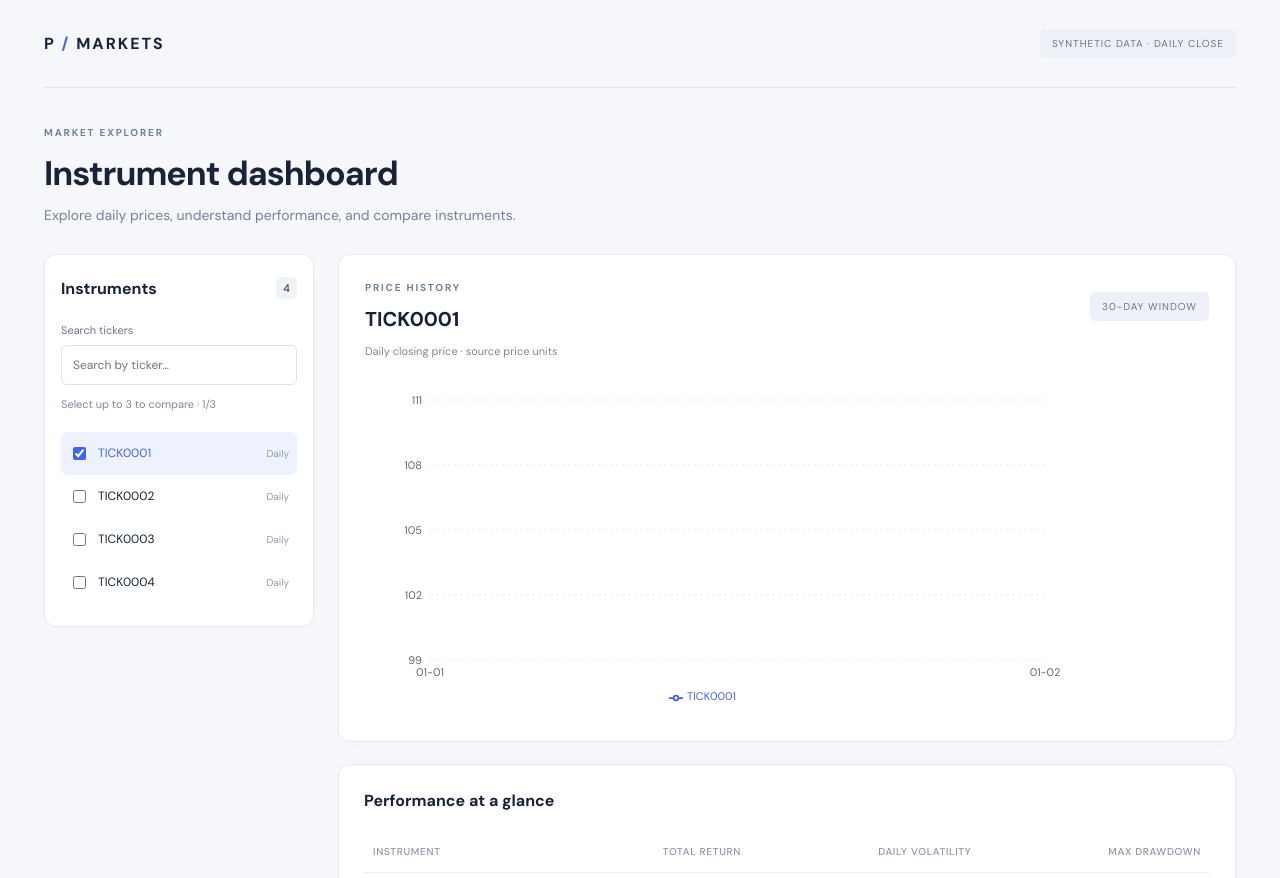
Test: Dashboard interactions › compares up to three, toggles normalization, and supports deselection
Click the checkbox labelled "TICK0002 Daily": coordinates (80, 496) [73, 490, 86, 503]
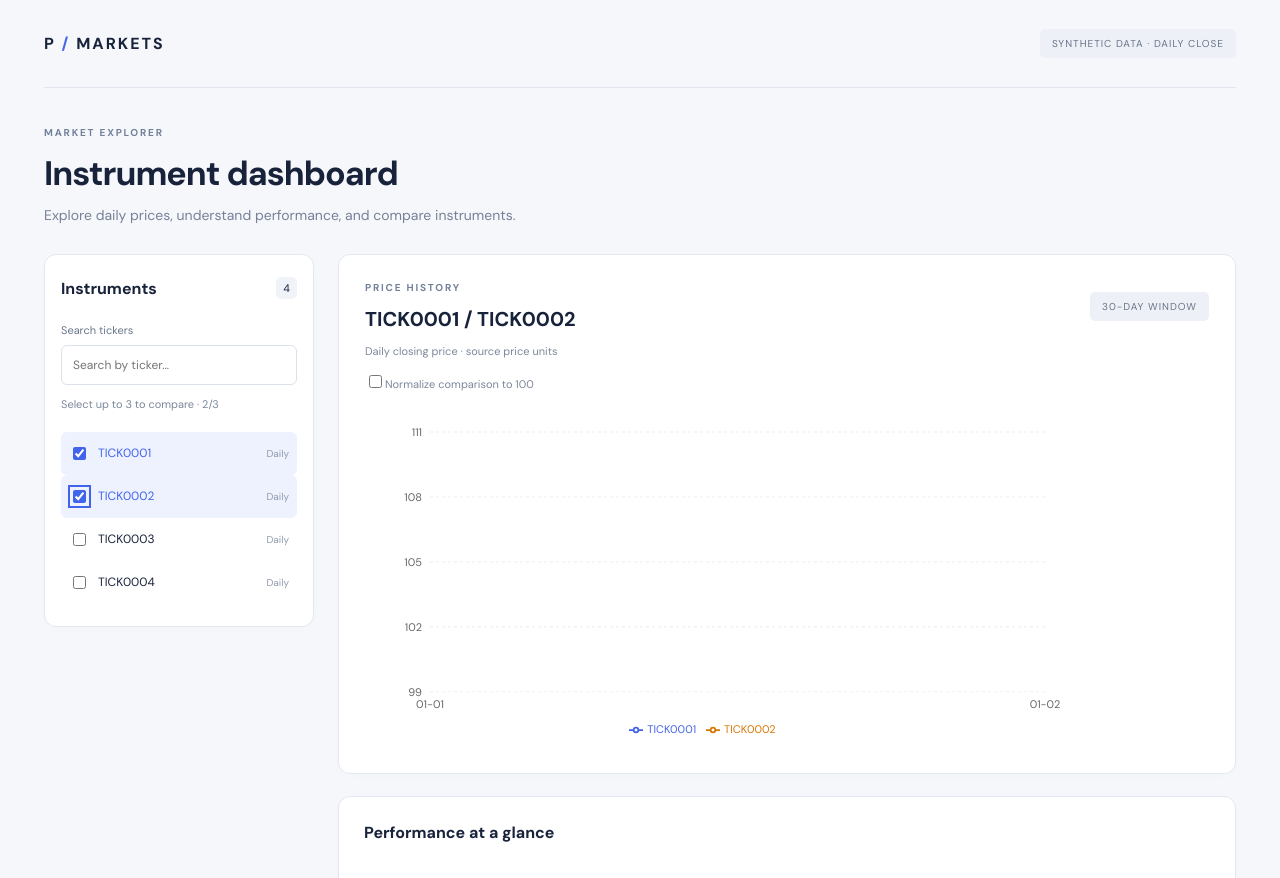
Expected: the checkbox labelled "Normalize comparison to 100" is shown, [369, 375, 382, 388]
Click the checkbox labelled "TICK0003 Daily": coordinates (80, 539) [73, 533, 86, 546]
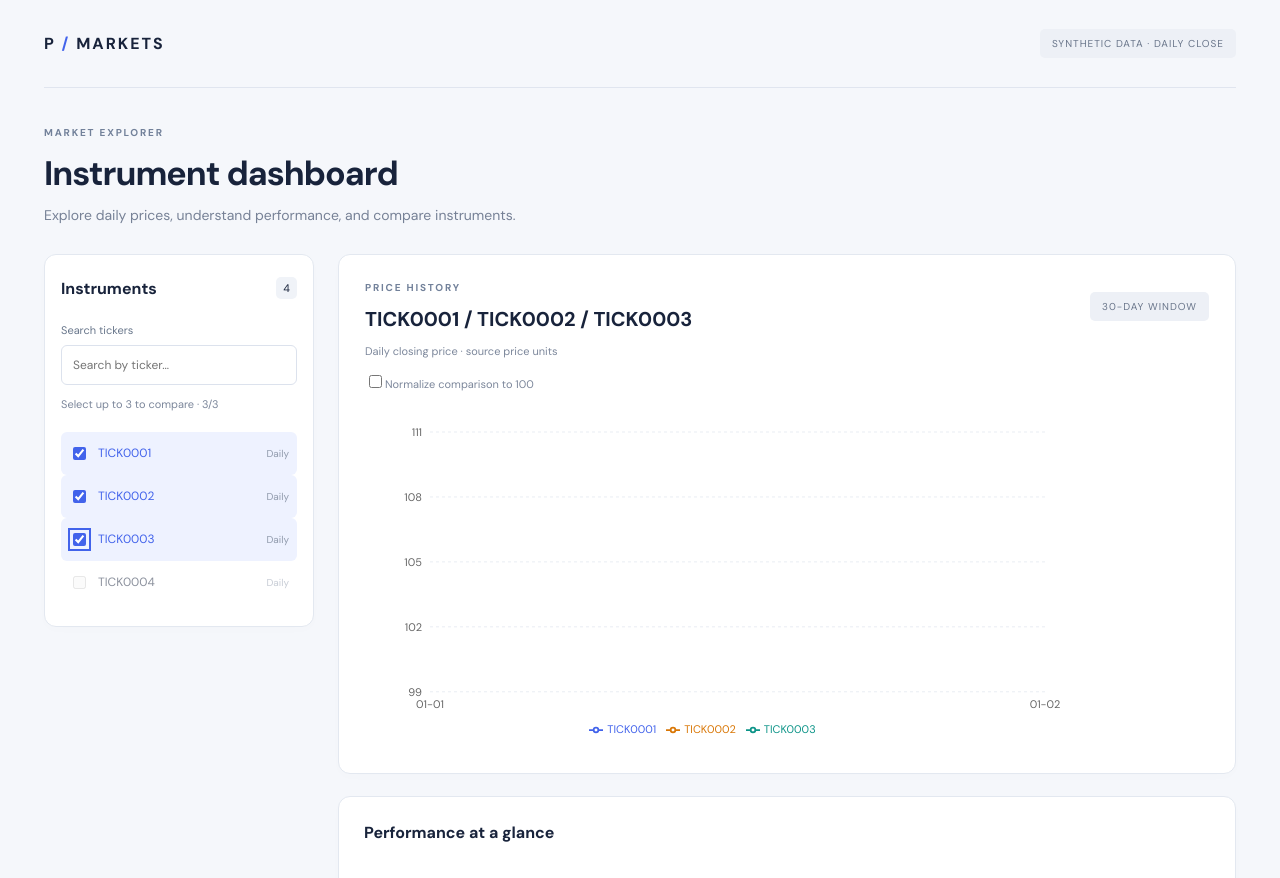
Click the checkbox labelled "Normalize comparison to 100": coordinates (376, 381) [369, 375, 382, 388]
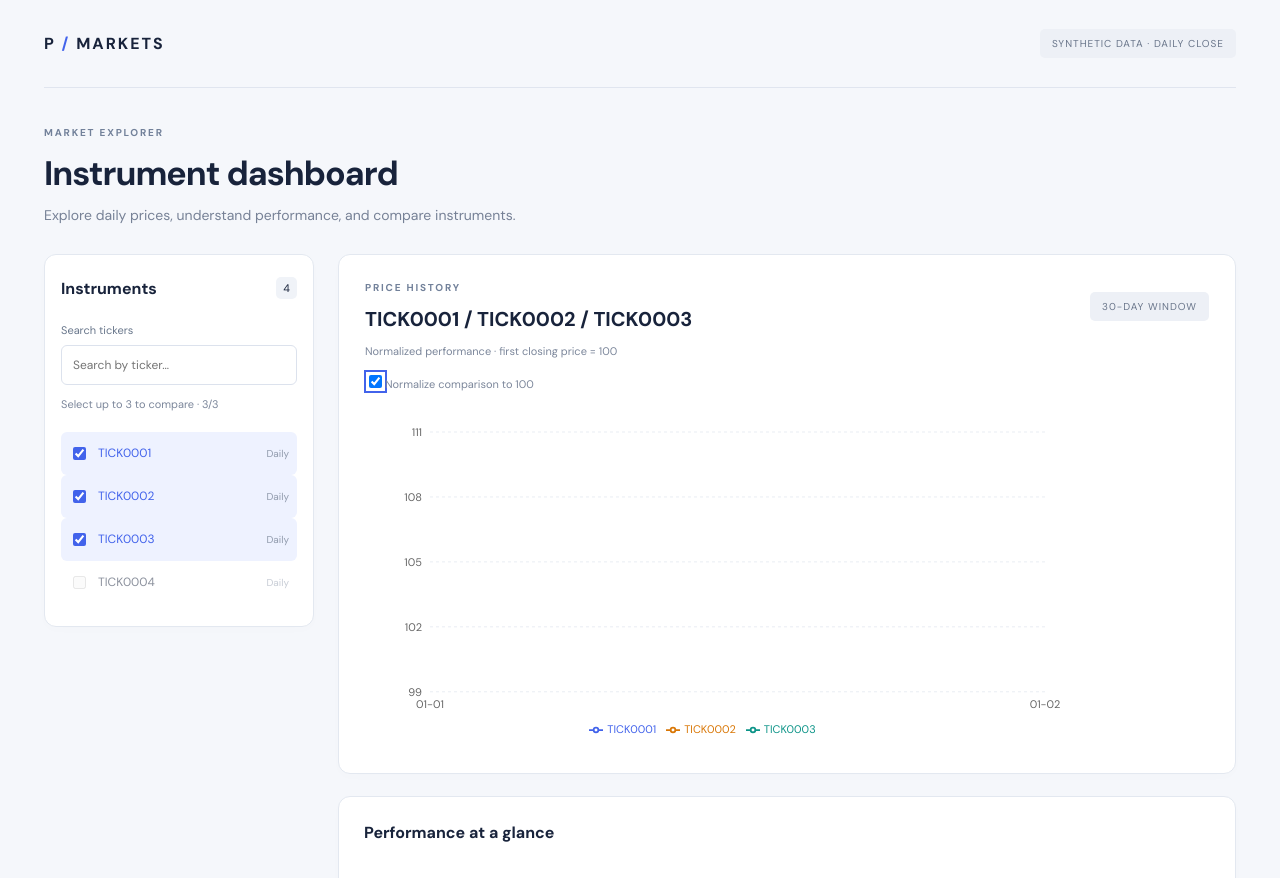
Expected: the text "Normalized performance · first closing price = 100" is shown, [365, 344, 617, 358]
Click the checkbox labelled "TICK0001 Daily": coordinates (80, 453) [73, 447, 86, 460]
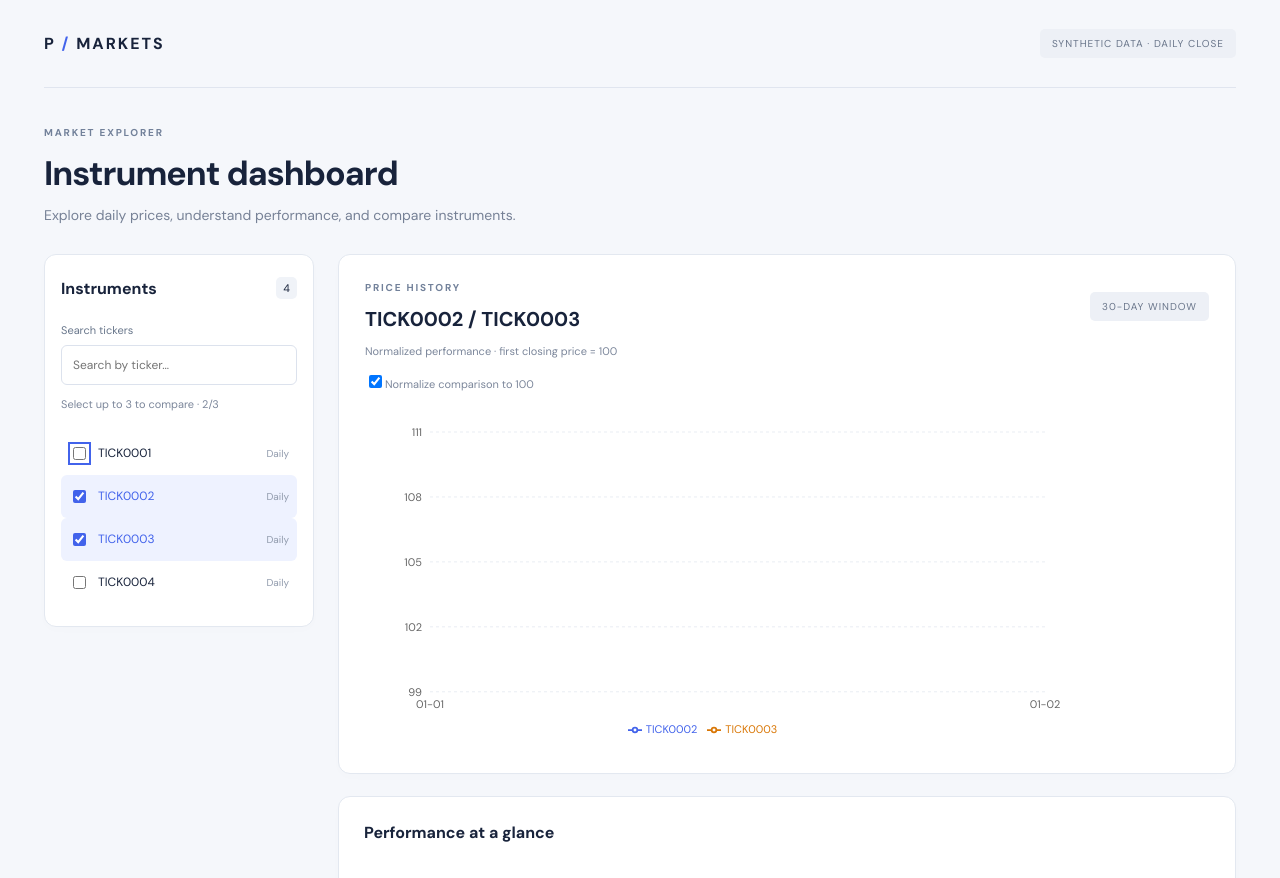
Click the checkbox labelled "TICK0002 Daily": coordinates (80, 496) [73, 490, 86, 503]
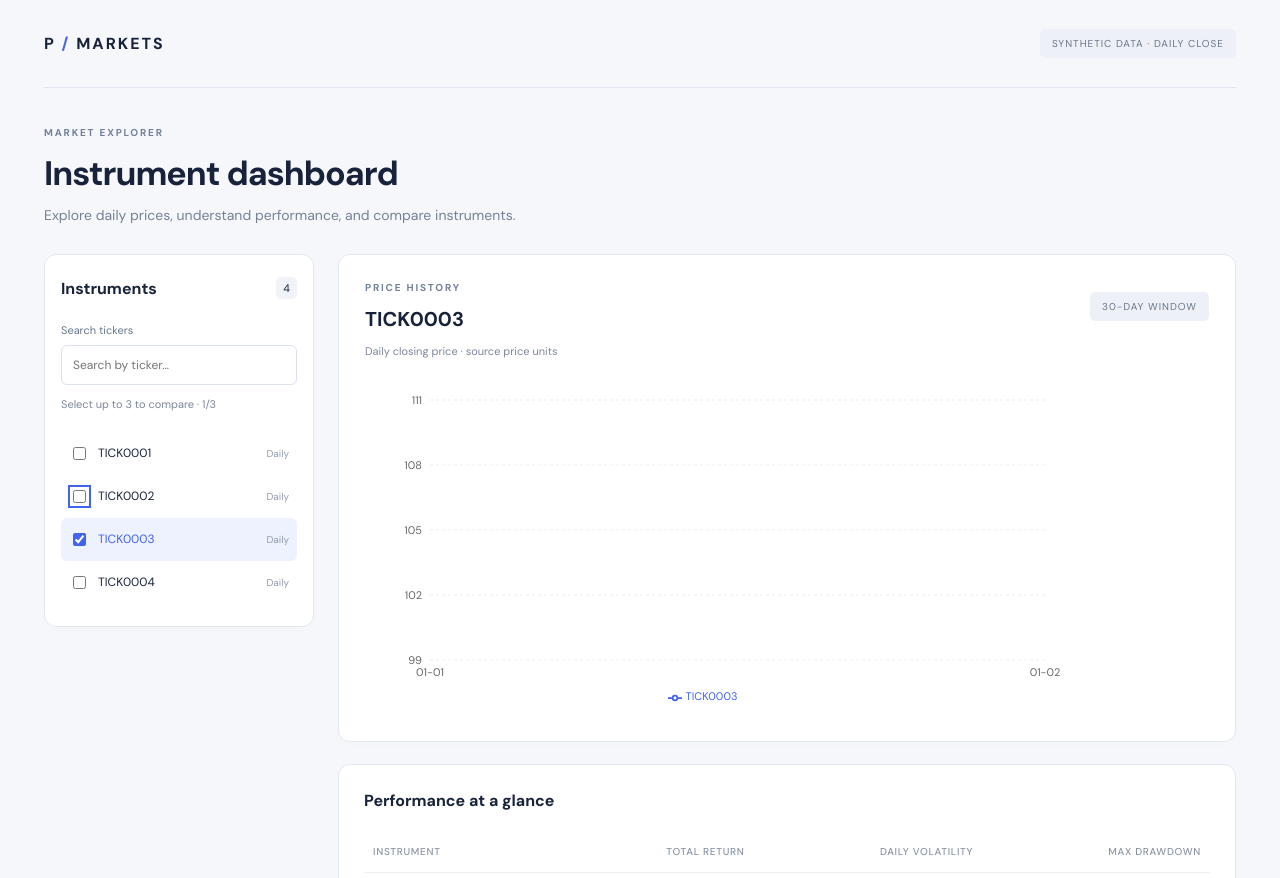
Click the checkbox labelled "TICK0003 Daily": coordinates (80, 539) [73, 533, 86, 546]
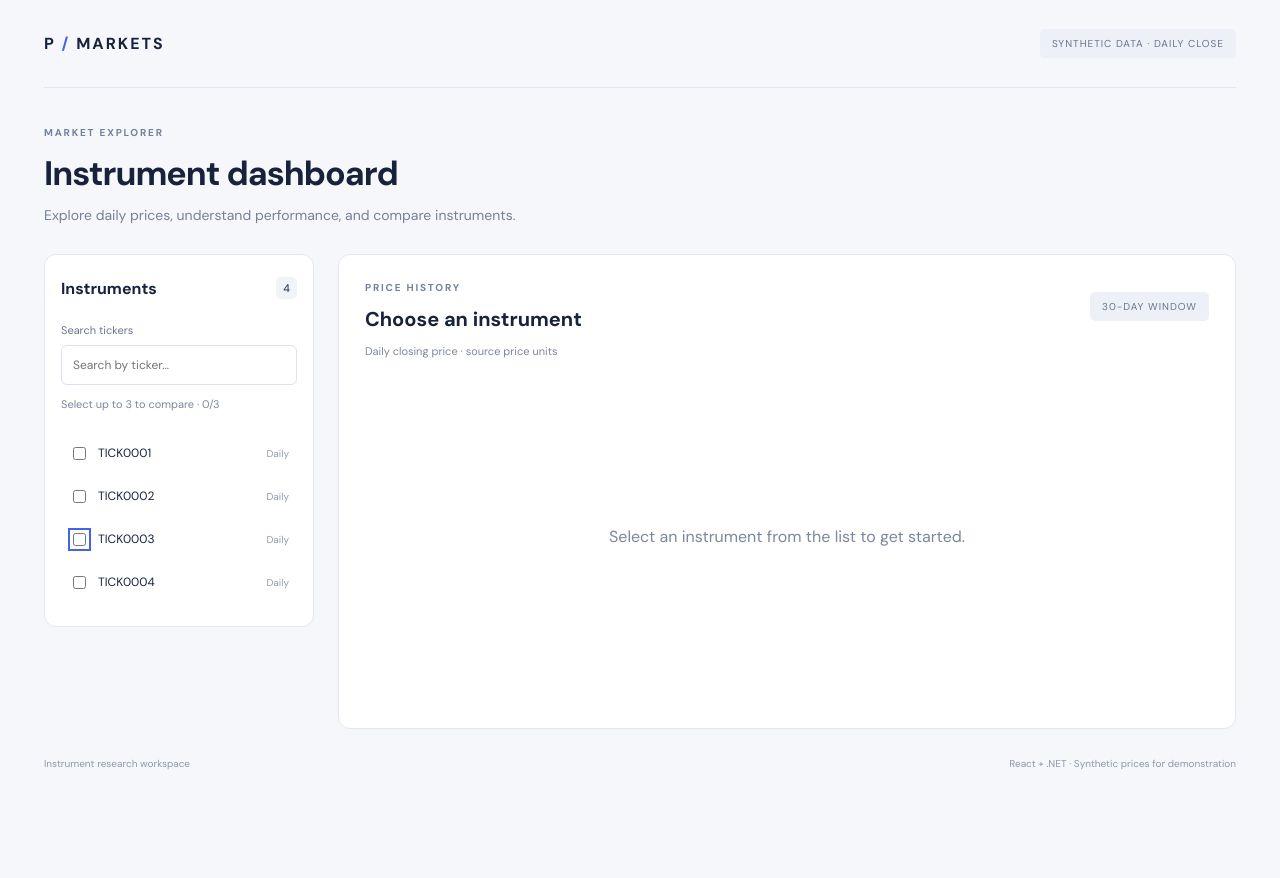
Expected: the text "Select an instrument from the list to get started." is shown, [609, 526, 965, 547]
